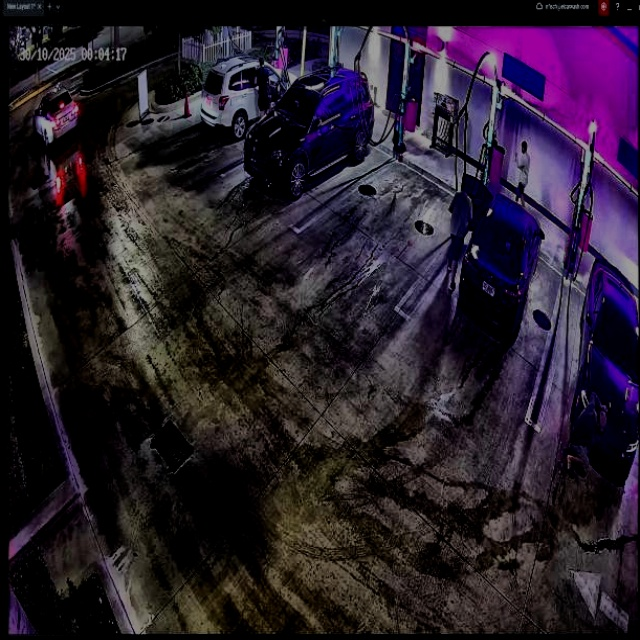Car: (244, 62, 376, 194), (460, 174, 544, 338)
